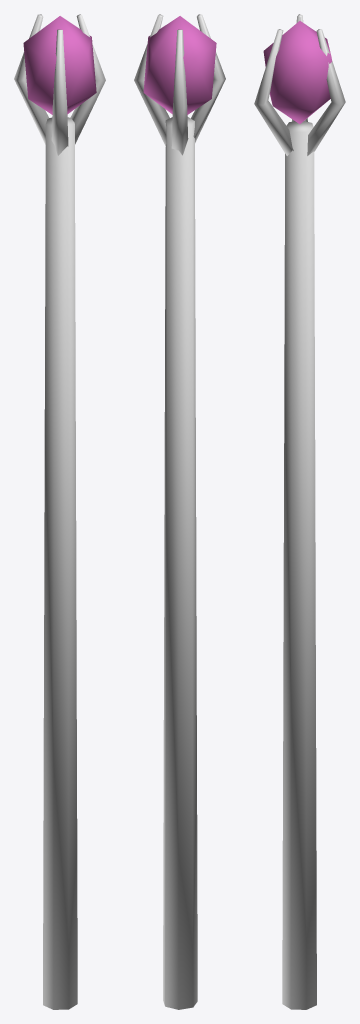
The model's file is blade_staff.glb.
3 renders of one model, left to right at view 1: azimuth 30°, elevation 25°; view 2: azimuth 150°, elevation 25°; view 3: azimuth 330°, elevation 25°, orthographic.
Visible parts, largest first — view 1: blade_staff_v0; view 2: blade_staff_v0; view 3: blade_staff_v0.
Boxes of the visible parts, x1,y1,x2,y2 form: blade_staff_v0: [14, 14, 105, 1009]; blade_staff_v0: [134, 14, 225, 1009]; blade_staff_v0: [254, 14, 345, 1009].
Bounding box in the file's own units: 0.1164 × 1.46 × 0.1182.
